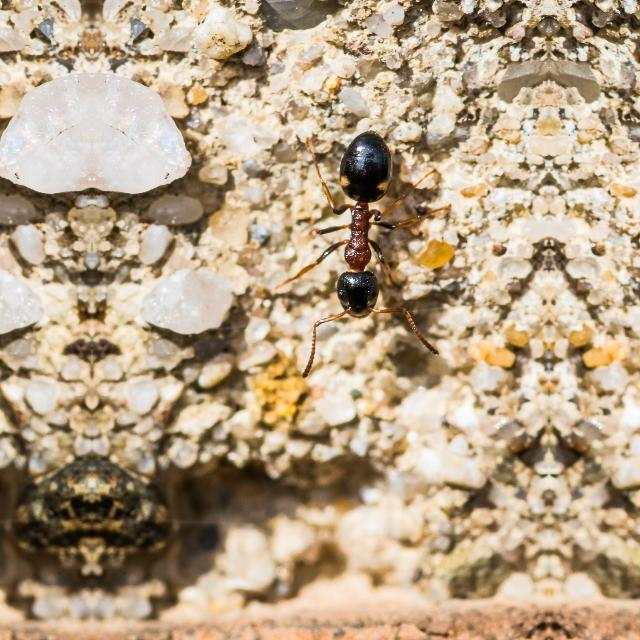Dolichoderus: (297, 89, 427, 354)
